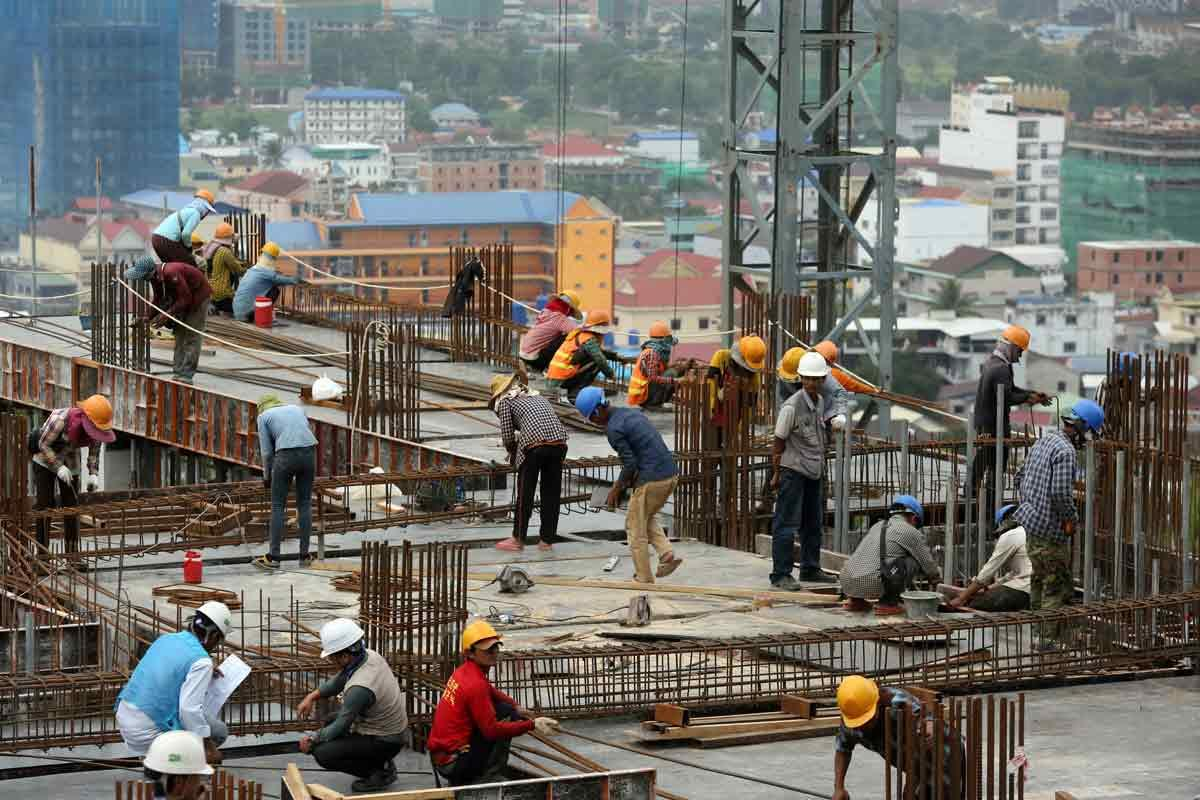helmet: (836, 677, 880, 726), (319, 620, 362, 660), (79, 394, 116, 431), (461, 622, 500, 655), (201, 601, 232, 637), (575, 387, 605, 421), (1077, 399, 1105, 435), (741, 335, 767, 370), (896, 492, 926, 522), (1004, 324, 1035, 352), (800, 355, 829, 379), (782, 349, 806, 377), (581, 307, 611, 327), (556, 289, 582, 310), (815, 340, 836, 361), (195, 190, 215, 210), (652, 321, 671, 339), (217, 222, 235, 240), (997, 504, 1014, 522), (264, 241, 279, 259)
